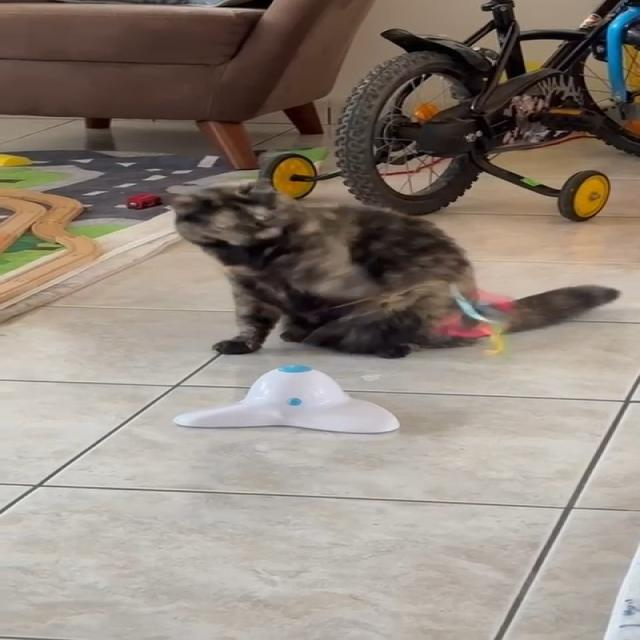authorized: (161, 180, 620, 360)
